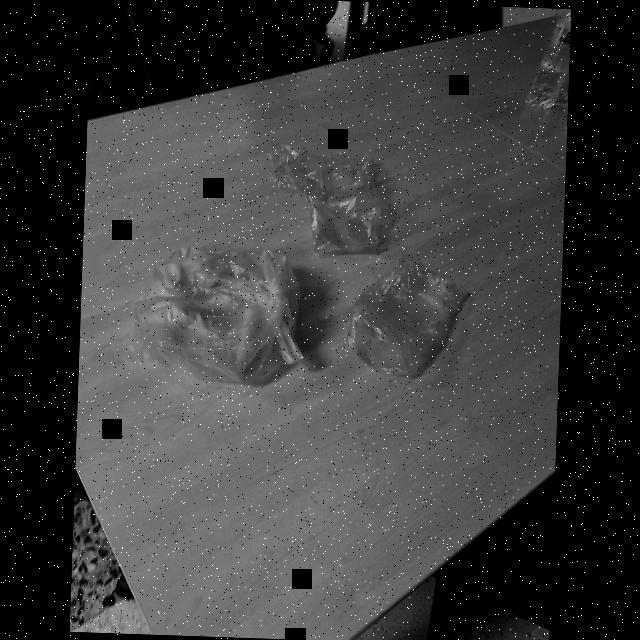plastic_bag: (123, 242, 307, 401)
scrap_plastic: (336, 267, 484, 378), (269, 138, 396, 256)
